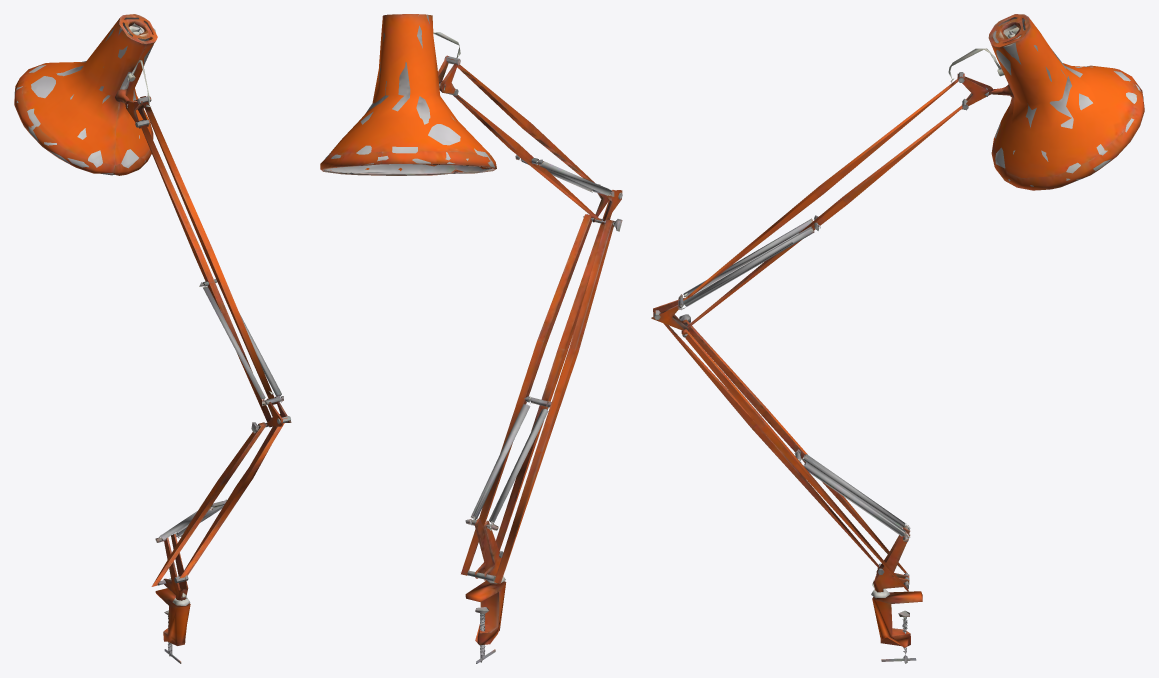
The model's file is desk_lamp_arm_01.glb.
The picture shows the model from 3 angles, left to right: view 1: azimuth 30°, elevation 25°; view 2: azimuth 150°, elevation 25°; view 3: azimuth 270°, elevation 25°; orthographic projection. The views are drawn at different scales.
Visible parts, largest first — view 1: desk_lamp_arm_01; view 2: desk_lamp_arm_01; view 3: desk_lamp_arm_01.
Part boxes in pixels (left/top/right/bottom): desk_lamp_arm_01: left=14, top=14, right=291, bottom=663; desk_lamp_arm_01: left=320, top=14, right=622, bottom=663; desk_lamp_arm_01: left=651, top=14, right=1144, bottom=663.
Bounding box in the file's own units: 0.2017 × 0.8926 × 0.6132.
2 materials, 2 textured.
